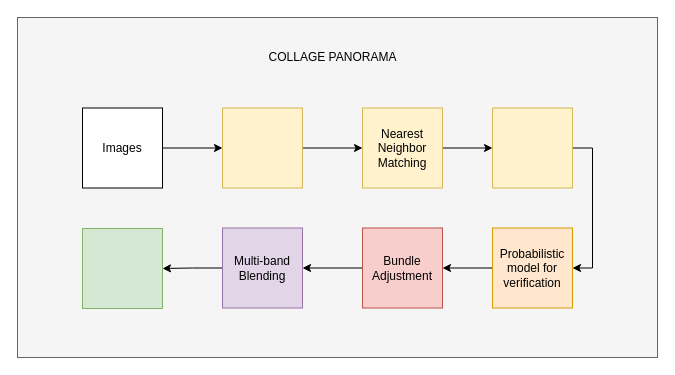
Some shapes in this 675 by 375 pixel diagram are drawn without their labels. The shapes that lost their labels are listed below. From the top down, each one's box as (x1, y1, x2, y2) in pixels, then its label:
(222, 107, 302, 188): SIFT Features
(492, 107, 572, 188): RANSAC for Homography
(82, 228, 162, 308): Output Image
